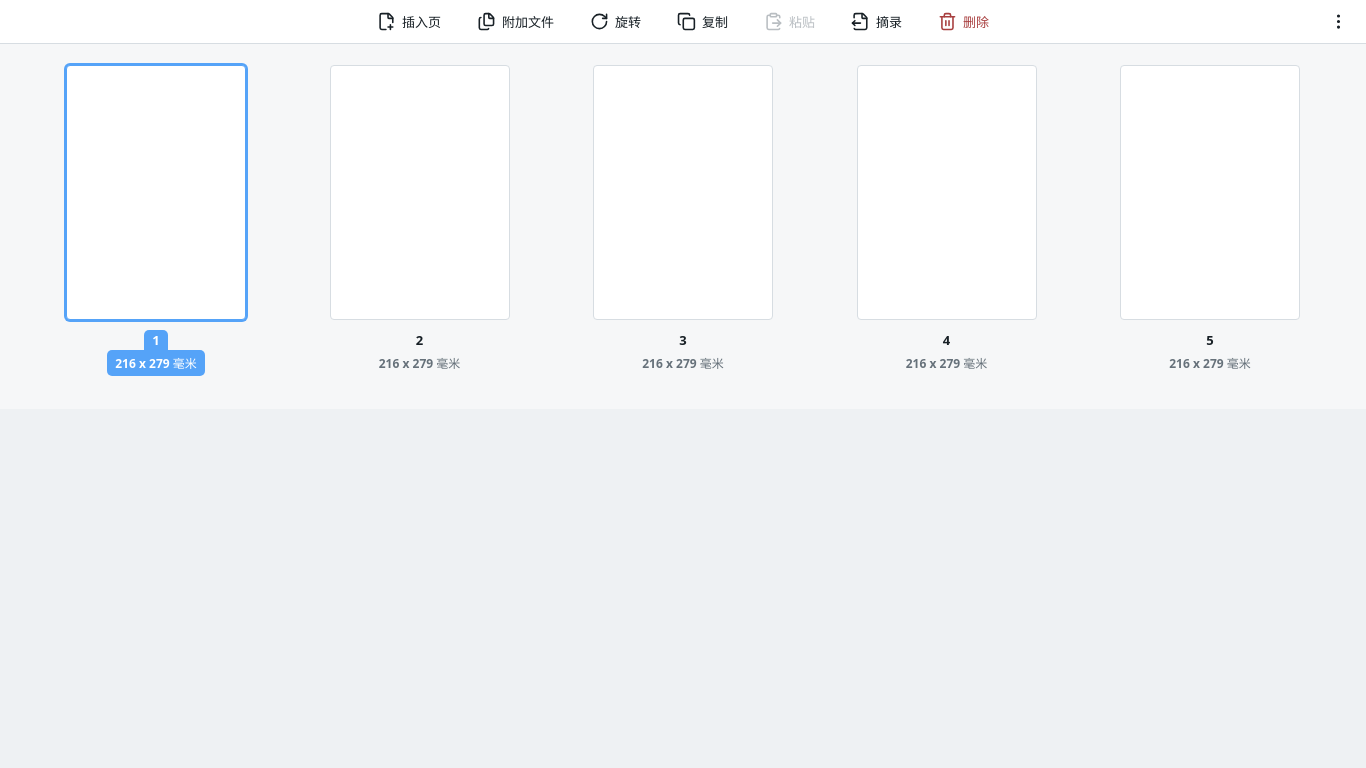
Test: PageOrganizerWorkspace 多选 / 撤销 / 风险 › 另存为新 PDF 弹风险提示对话框
What coordinates should you click on to do the following:
click the button "旋转"
I would click on:
 (616, 22)
Its box is [586,2,645,42].
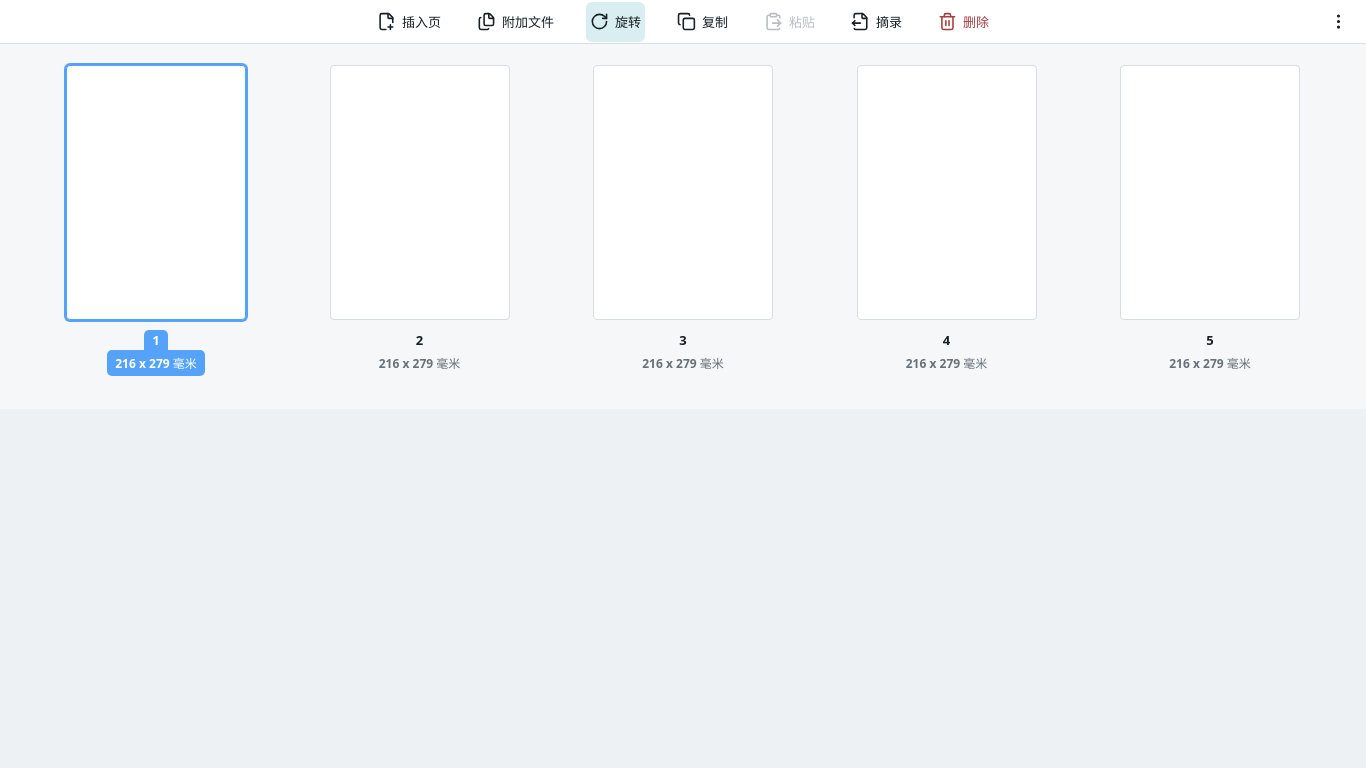
What coordinates should you click on to do the following:
click the heading named "更多页面工具"
I would click on:
 (1338, 22)
Its box is [1328,12,1348,31].
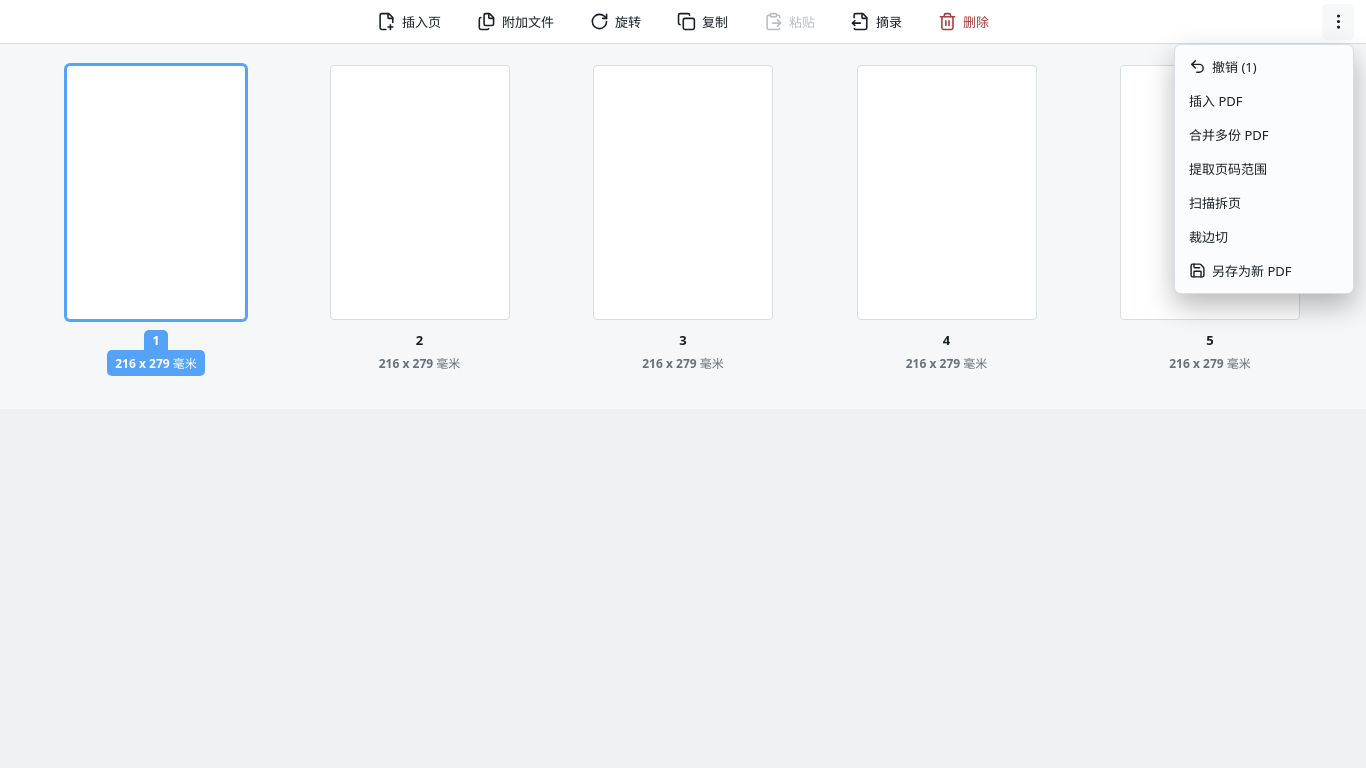
What coordinates should you click on to do the following:
click the menu item "另存为新 PDF"
I would click on:
 (1264, 270)
Its box is [1181,254,1347,286].
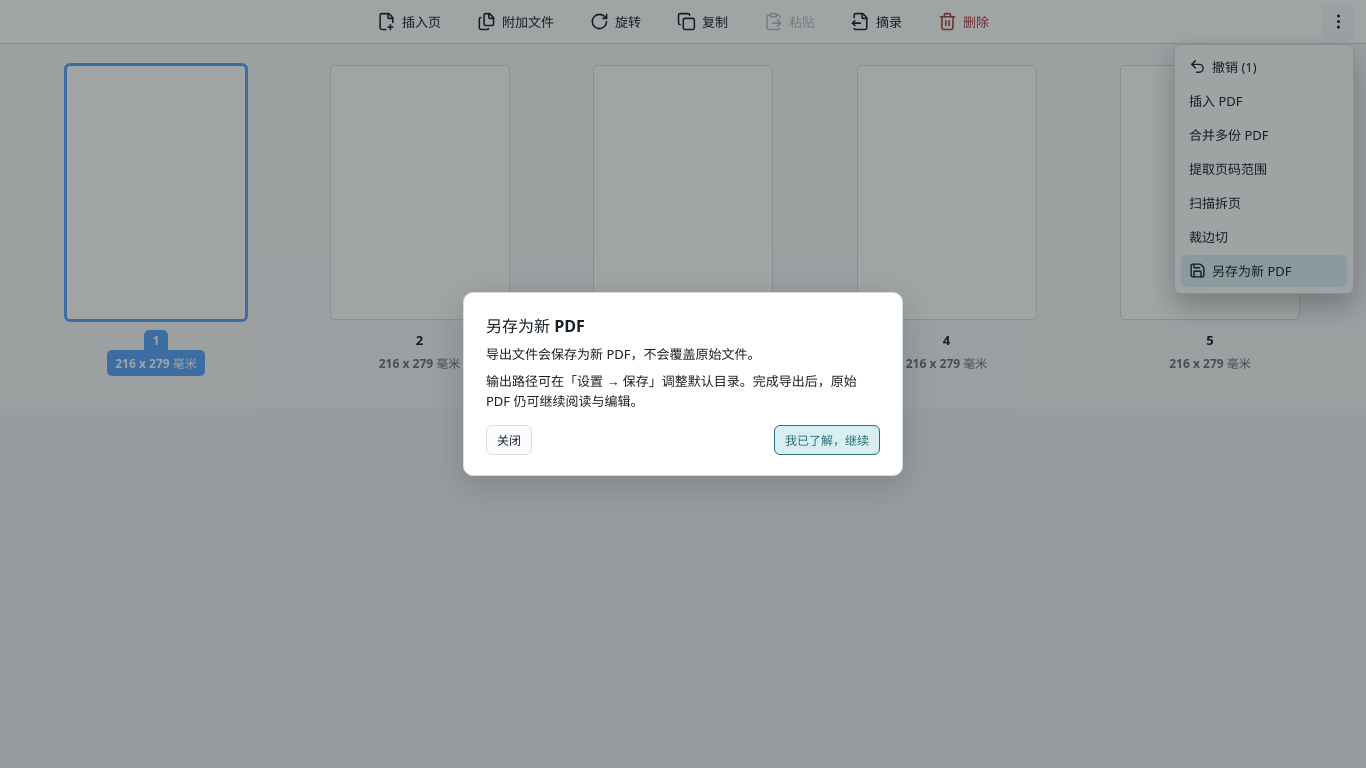
Expected: the text "不会覆盖原始文件" is shown, [644,345,748,363]
What coordinates should you click on to do the following:
click the button "我已了解，继续"
I would click on:
 (827, 440)
Its box is [774,425,880,455].
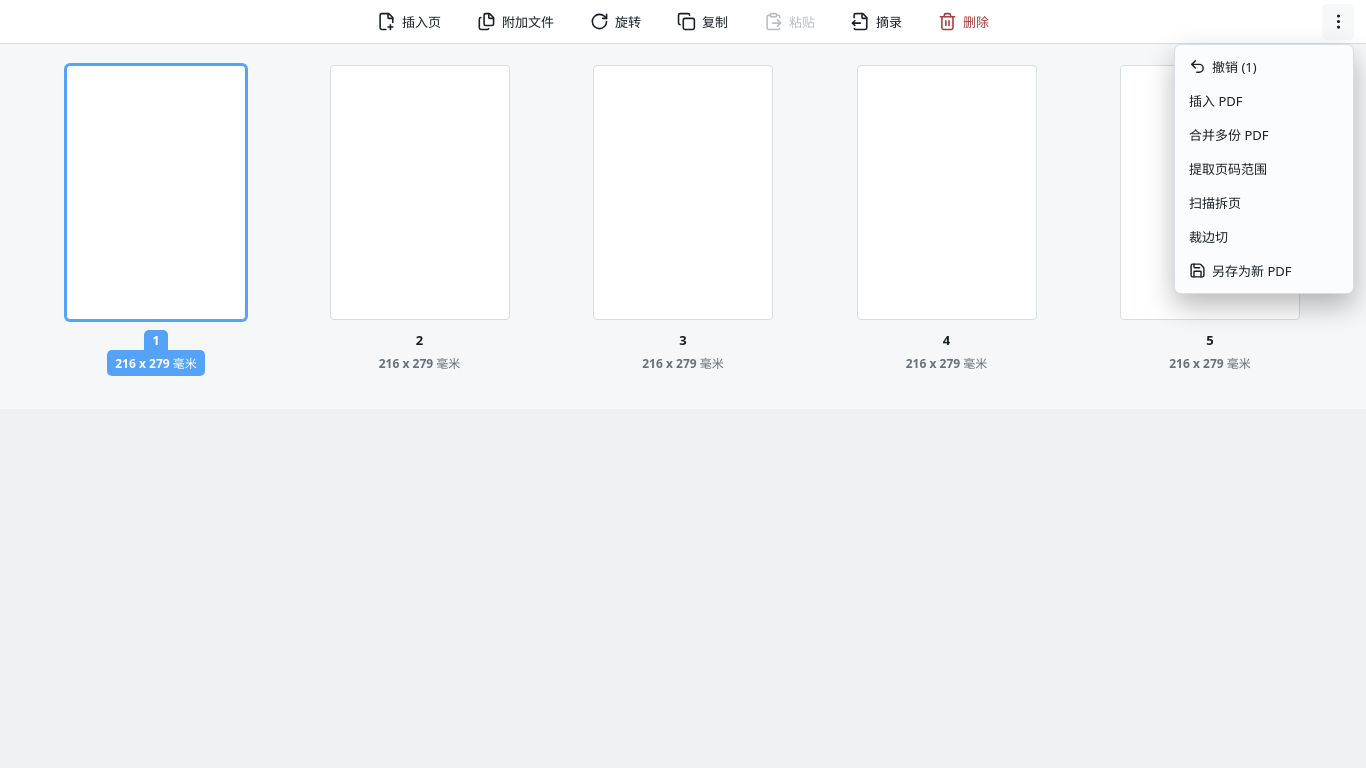
Expected: the dialog is gone
